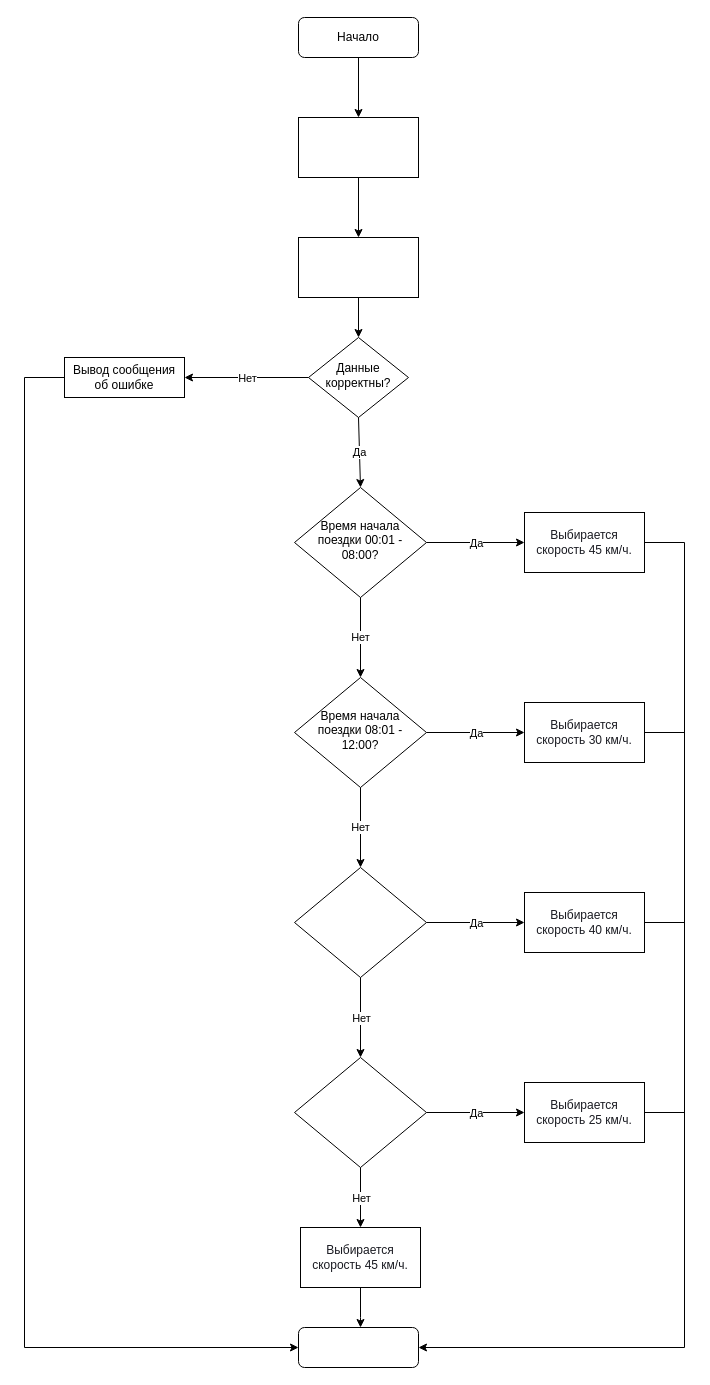
Image size: 710x1385. Some labels were removed from this diagram. Here are the shapes that lost their labels. From the top down, the box of each, then its label:
(298, 116, 418, 178): Пользователь выбрал вид транспорта "Свой автомобиль"
(298, 236, 418, 298): Заполняем поле "Время начала поездки в формате часы и минуты
(294, 866, 426, 978): Время начала поездки 12:01 - 18:00?
(294, 1056, 426, 1168): Время начала поездки 18:01 - 22:00?
(298, 1326, 418, 1368): Конец
